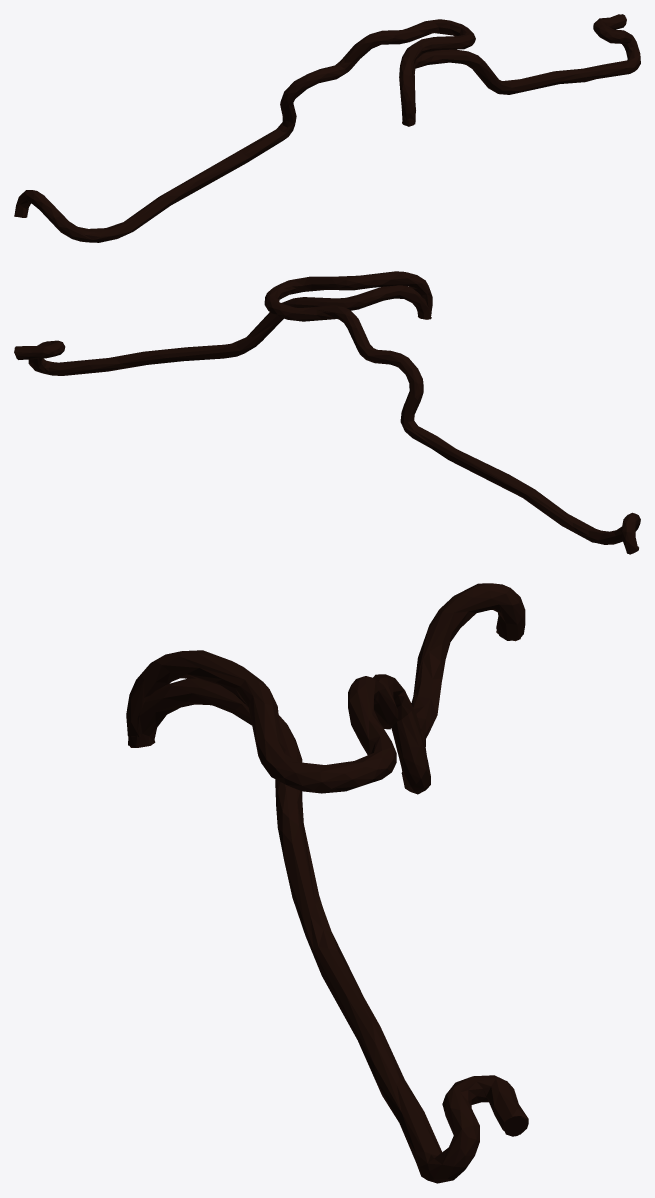
File: rocker_left_055.dae
The picture shows the model from 3 angles, top to bottom: view 1: azimuth 30°, elevation 25°; view 2: azimuth 150°, elevation 25°; view 3: azimuth 270°, elevation 25°; orthographic projection. The views are drawn at different scales.
Visible parts, largest first — view 1: node; view 2: node; view 3: node.
Boxes of the visible parts, <box> form: node: <box>14,14,640,242</box>; node: <box>14,271,640,554</box>; node: <box>126,583,528,1183</box>.
Bounding box in the file's own units: 1.31 × 0.3743 × 0.3379.
